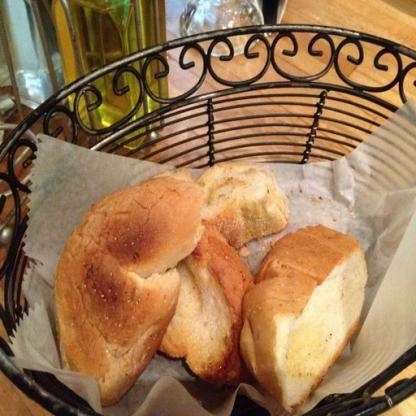toast bread: (52, 175, 202, 403), (242, 224, 371, 416), (155, 215, 253, 391), (197, 162, 289, 249)
